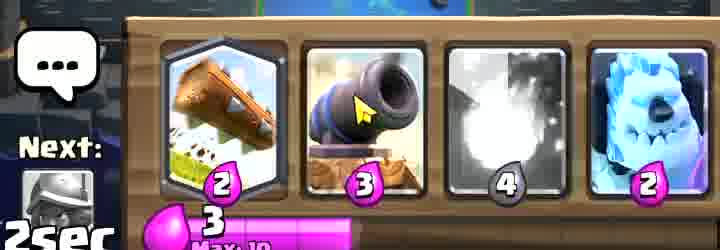cannon: (305, 52, 413, 197)
ice-golem: (590, 50, 706, 198)
log: (167, 42, 281, 189)
